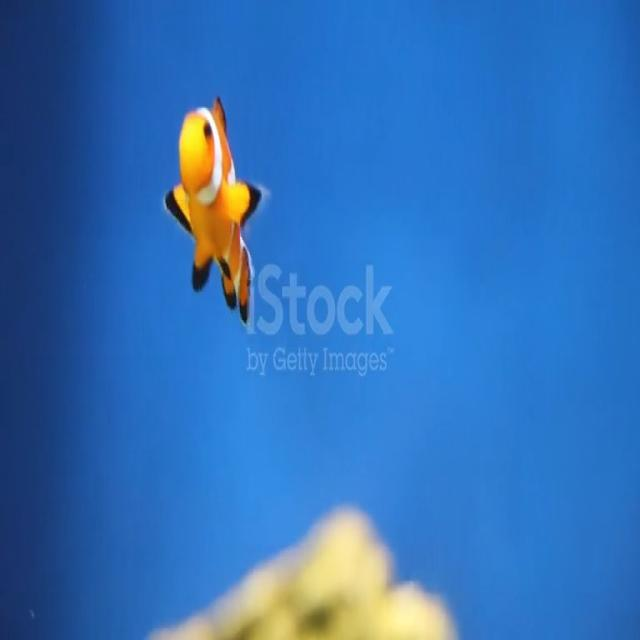fish: (164, 89, 263, 333)
